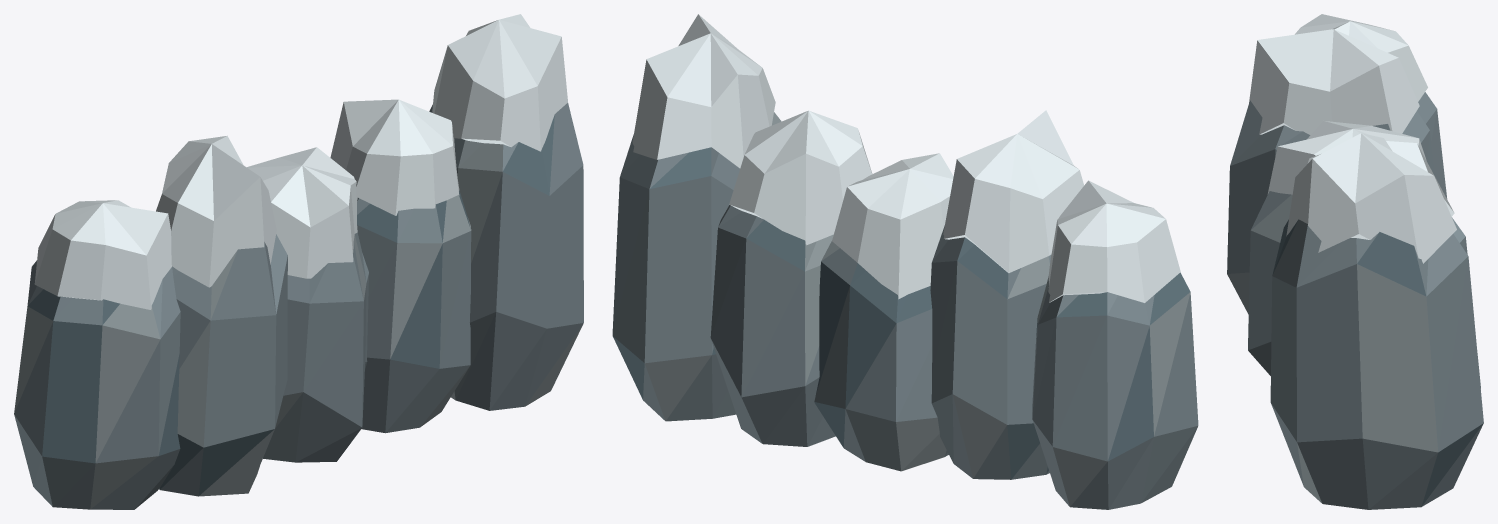
Rendered from ROCK_11_CliffMedium.glb.
3 renders of one model, left to right at view 1: azimuth 30°, elevation 25°; view 2: azimuth 150°, elevation 25°; view 3: azimuth 270°, elevation 25°, orthographic. The views are drawn at different scales.
Visible parts, largest first — view 1: ROCK_11_CliffMedium; view 2: ROCK_11_CliffMedium; view 3: ROCK_11_CliffMedium.
Boxes of the visible parts, x1=… form: ROCK_11_CliffMedium: x1=14, y1=14, x2=583, y2=509; ROCK_11_CliffMedium: x1=612, y1=14, x2=1198, y2=509; ROCK_11_CliffMedium: x1=1227, y1=14, x2=1483, y2=509.
Size of the model in its own units: 9.62 by 6.11 by 4.
